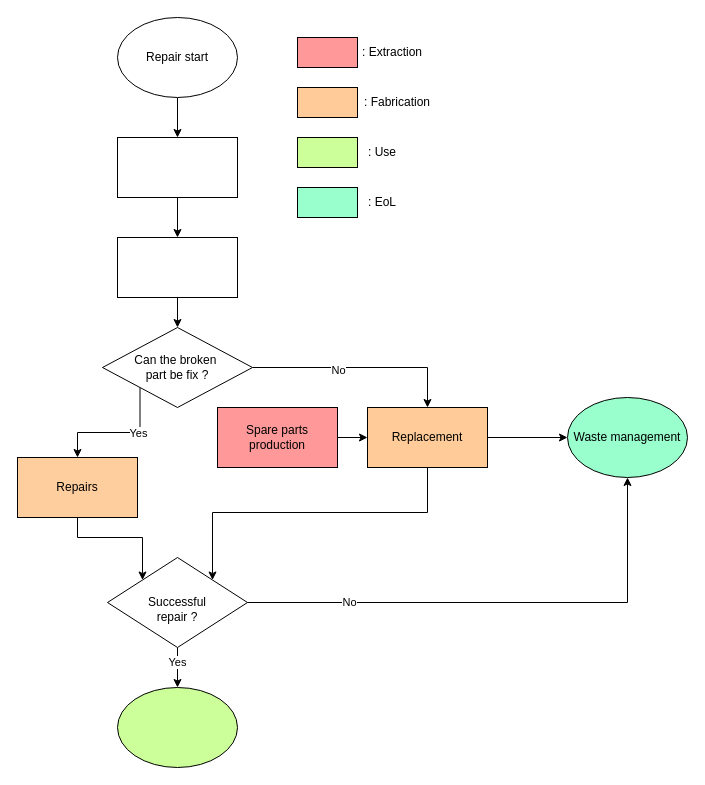
Image size: 705x785. Some labels were removed from this diagram. Here are the shapes that lost their labels. From the top down, the centre of each, then its label:
point 177,167: Diagnostic
point 177,267: Disassembly
point 177,727: Return to use
